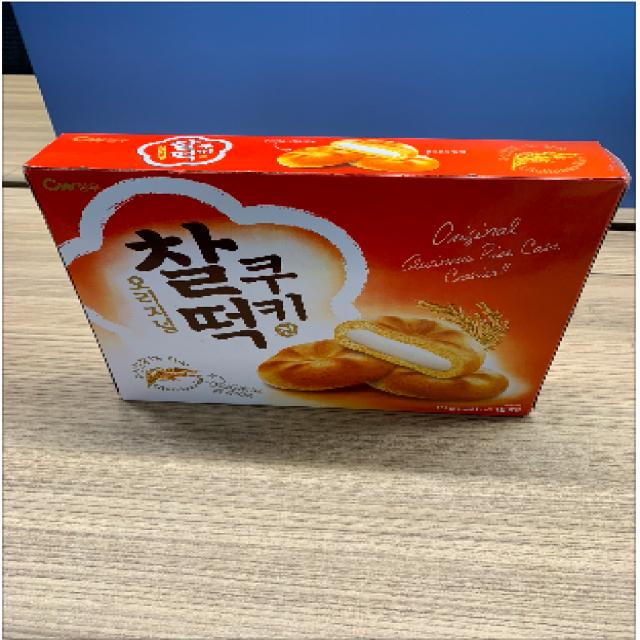object_name: (37, 136, 620, 413)
